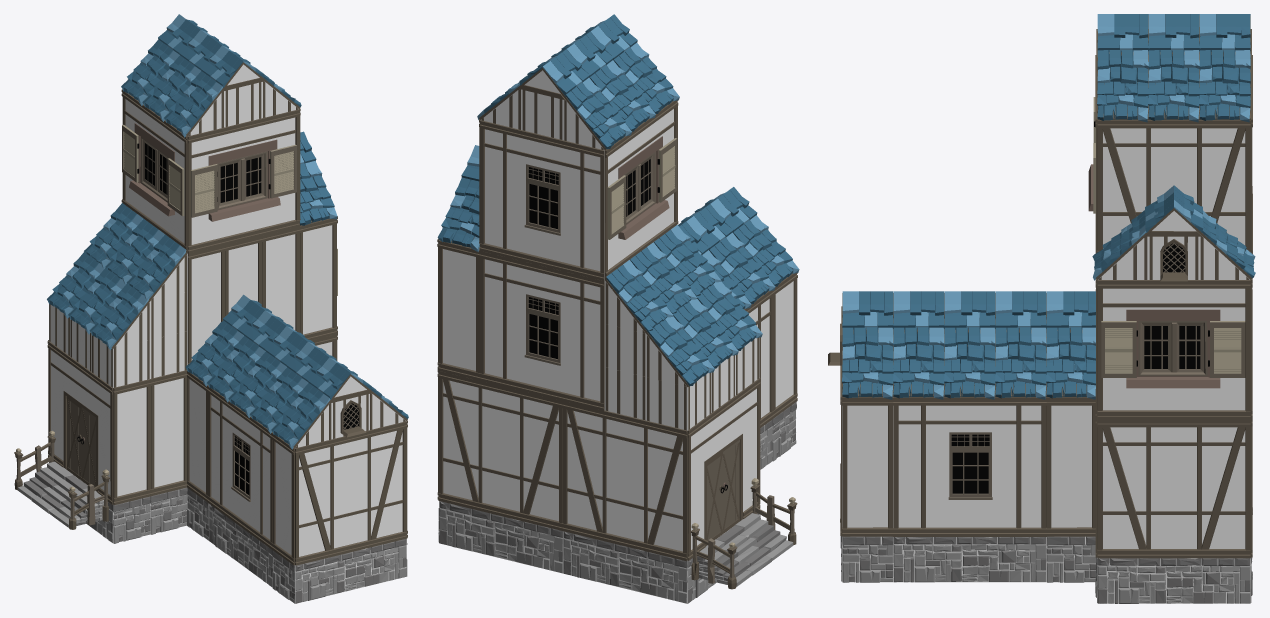
File: House_17_full.glb
3 renders of one model, left to right at view 1: azimuth 30°, elevation 25°; view 2: azimuth 150°, elevation 25°; view 3: azimuth 270°, elevation 25°, orthographic. The views are drawn at different scales.
Visible parts, largest first — view 1: WINDOW_06_3, WALL_02_2, WINDOW_03_2, WINDOW_06_4, DOOR_03_2, WALL_03_8, STAIRS_03_2, WALL_03_7, FOUNDATION_02_24, WALL_03_10, WALL_03_13, WALL_03_11 (+45 smaller); view 2: WINDOW_03_5, WALL_02_5, WINDOW_03_4, WALL_02_4, WINDOW_06_4, DOOR_03_2, STAIRS_03_2, WALL_03_14, FOUNDATION_02_27, FOUNDATION_02_28, WALL_03_4, ROOF_base_16 (+33 smaller); view 3: WALL_02_3, WINDOW_06_2, WINDOW_03_3, WALL_02_6, WALL_03_5, FOUNDATION_02_25, FOUNDATION_02_26, WALL_03_6, ROOF_base_4, ROOF_base_5, ROOF_base_3, ROOF_base_6 (+23 smaller).
Boxes of the visible parts, x1=… form: WINDOW_06_3: x1=187, y1=109, x2=299, y2=253; WALL_02_2: x1=295, y1=421, x2=407, y2=565; WINDOW_03_2: x1=207, y1=385, x2=272, y2=549; WINDOW_06_4: x1=121, y1=89, x2=187, y2=251; DOOR_03_2: x1=47, y1=341, x2=113, y2=504; WALL_03_8: x1=113, y1=379, x2=151, y2=505; STAIRS_03_2: x1=14, y1=430, x2=109, y2=529; WALL_03_7: x1=151, y1=370, x2=187, y2=495; FOUNDATION_02_24: x1=295, y1=538, x2=406, y2=603; WALL_03_10: x1=299, y1=218, x2=337, y2=340; WALL_03_13: x1=187, y1=245, x2=225, y2=364; WALL_03_11: x1=262, y1=226, x2=299, y2=332; WINDOW_03_5: x1=479, y1=120, x2=604, y2=280; WALL_02_5: x1=562, y1=401, x2=687, y2=561; WINDOW_03_4: x1=479, y1=251, x2=604, y2=410; WALL_02_4: x1=438, y1=370, x2=562, y2=530; WINDOW_06_4: x1=604, y1=100, x2=678, y2=280; DOOR_03_2: x1=687, y1=378, x2=760, y2=560; STAIRS_03_2: x1=691, y1=478, x2=797, y2=589; WALL_03_14: x1=438, y1=240, x2=480, y2=380; FOUNDATION_02_27: x1=439, y1=501, x2=563, y2=573; FOUNDATION_02_28: x1=563, y1=531, x2=687, y2=603; WALL_03_4: x1=773, y1=273, x2=797, y2=417; ROOF_base_16: x1=605, y1=260, x2=673, y2=333; WALL_02_3: x1=1097, y1=419, x2=1250, y2=558; WINDOW_06_2: x1=1097, y1=280, x2=1250, y2=419; WINDOW_03_3: x1=893, y1=397, x2=1046, y2=536; WALL_02_6: x1=1097, y1=119, x2=1250, y2=252; WALL_03_5: x1=842, y1=397, x2=893, y2=536; FOUNDATION_02_25: x1=893, y1=537, x2=1046, y2=582; FOUNDATION_02_26: x1=1097, y1=558, x2=1250, y2=603; WALL_03_6: x1=1046, y1=397, x2=1095, y2=536; ROOF_base_4: x1=944, y1=326, x2=995, y2=399; ROOF_base_5: x1=893, y1=326, x2=944, y2=399; ROOF_base_3: x1=995, y1=327, x2=1046, y2=399; ROOF_base_6: x1=842, y1=327, x2=893, y2=399.
Bounding box in the file's own units: 7.32 × 11.59 × 8.38.
1 material, 1 textured.
